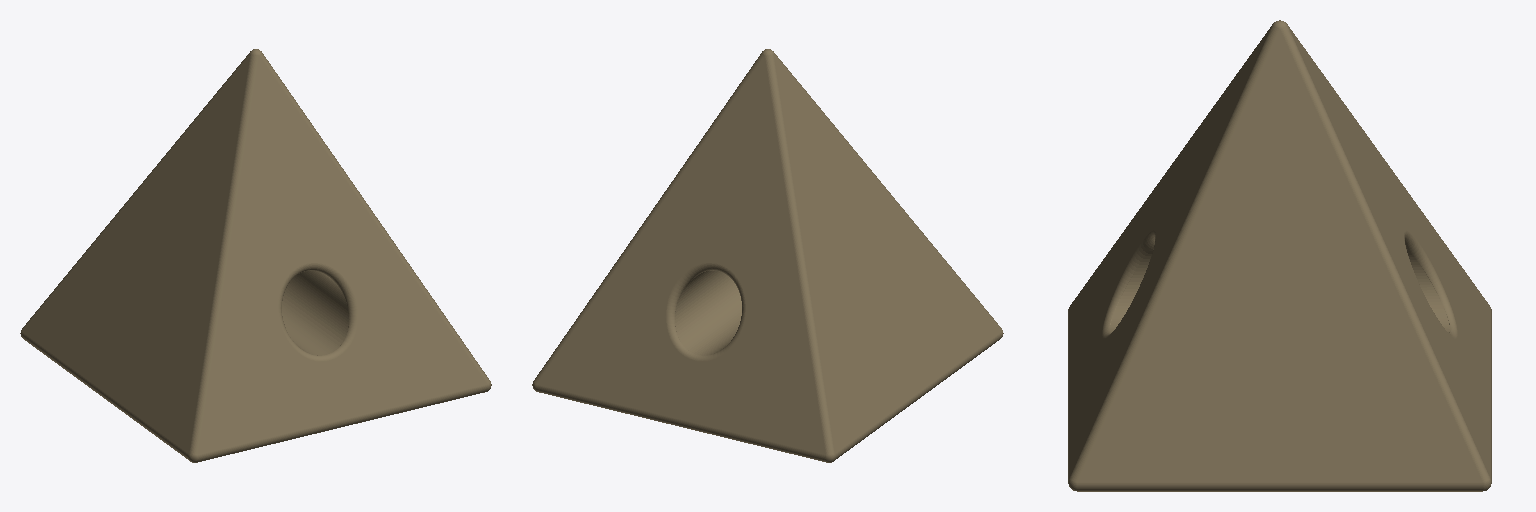
robot.urdf — Pyramid_W_Eye:
<?xml version="1.0"?>
<robot name="Pyramid_W_Eye">
  <link name="base_link">
    <visual>
      <origin xyz="0 0 0" rpy="0 0 0" />
      <geometry>
        <mesh filename="Pyramid_W_Eye.obj"/>      
      </geometry>
      <material name="tan">
        <color rgba="0.55 0.5 0.4 1"/>
      </material>
    </visual>
    <collision>
      <origin xyz="0 0 0" rpy="0 0 0" />
      <geometry>
        <mesh filename="Pyramid_W_Eye.obj"/>
      </geometry>
    </collision>
  </link>
</robot>

--- Facts derived from the render (not from the file) ---
The picture shows the robot from 3 angles, left to right: view 1: azimuth 30°, elevation 25°; view 2: azimuth 150°, elevation 25°; view 3: azimuth 270°, elevation 25°; orthographic projection.
Robot: Pyramid_W_Eye — 1 links, 0 joints (none); root link base_link; default pose: all joints at 0.
Visible links, largest first — view 1: base_link; view 2: base_link; view 3: base_link.
Link boxes in pixels (bbox=[...]): base_link: bbox=[20, 49, 491, 462]; base_link: bbox=[532, 49, 1003, 462]; base_link: bbox=[1068, 20, 1491, 491].
Size in the robot's own frame: 37.12 by 37.12 by 37.12 metres.
Meshes: 1 distinct files referenced, 1 mesh visuals loaded (1 OBJ).
